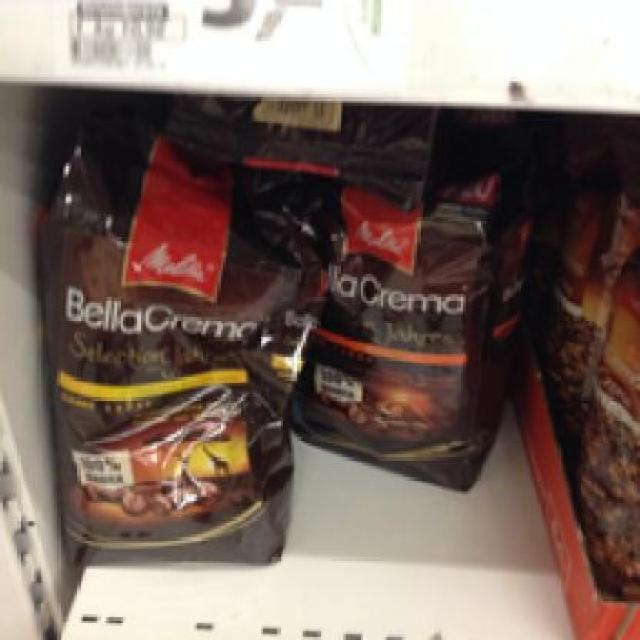Coffee: (34, 117, 294, 563), (308, 175, 512, 494)
